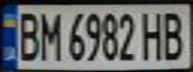2: (118, 9, 139, 62)
6: (63, 8, 87, 62)
8: (100, 9, 121, 62)
9: (81, 8, 103, 62)
B: (157, 7, 190, 61), (12, 8, 42, 62)
H: (139, 8, 169, 61)
M: (36, 8, 63, 62)
